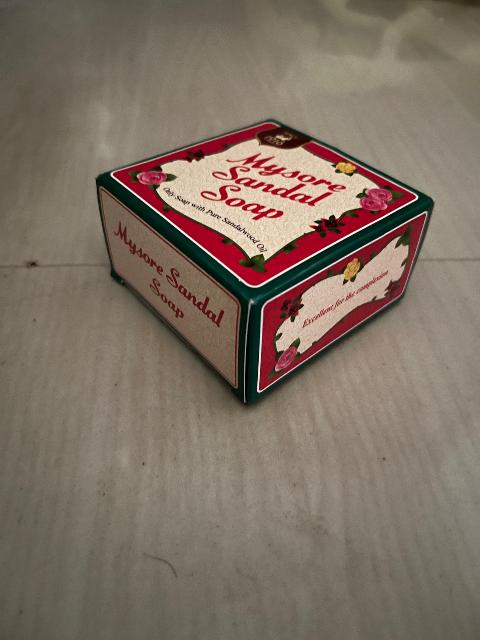mysore sandal soap: (95, 116, 438, 408)
